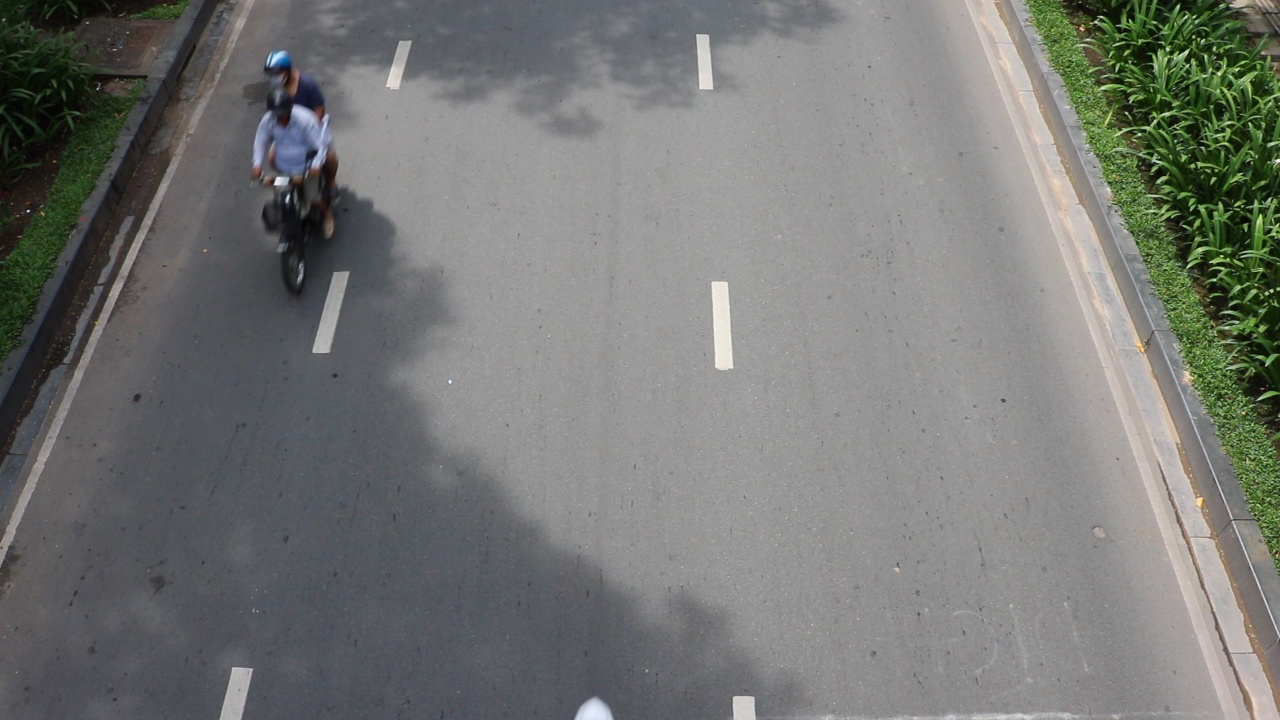motorcycle: (252, 167, 327, 300)
